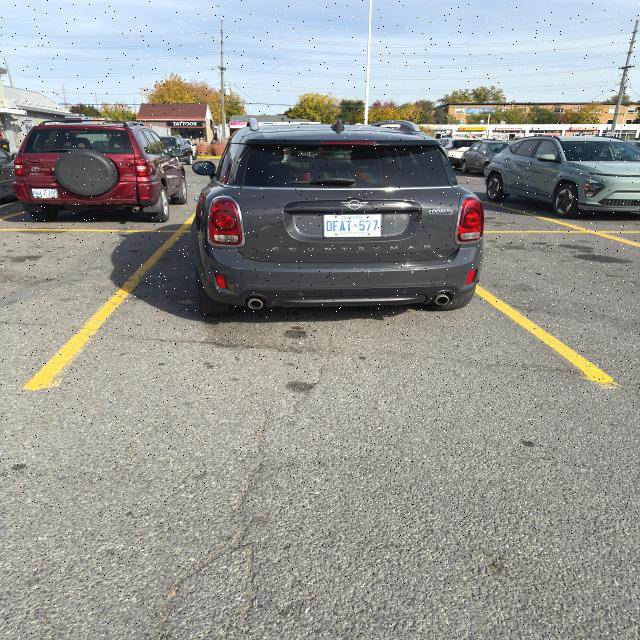plaque: (324, 214, 381, 237), (32, 189, 58, 198)
